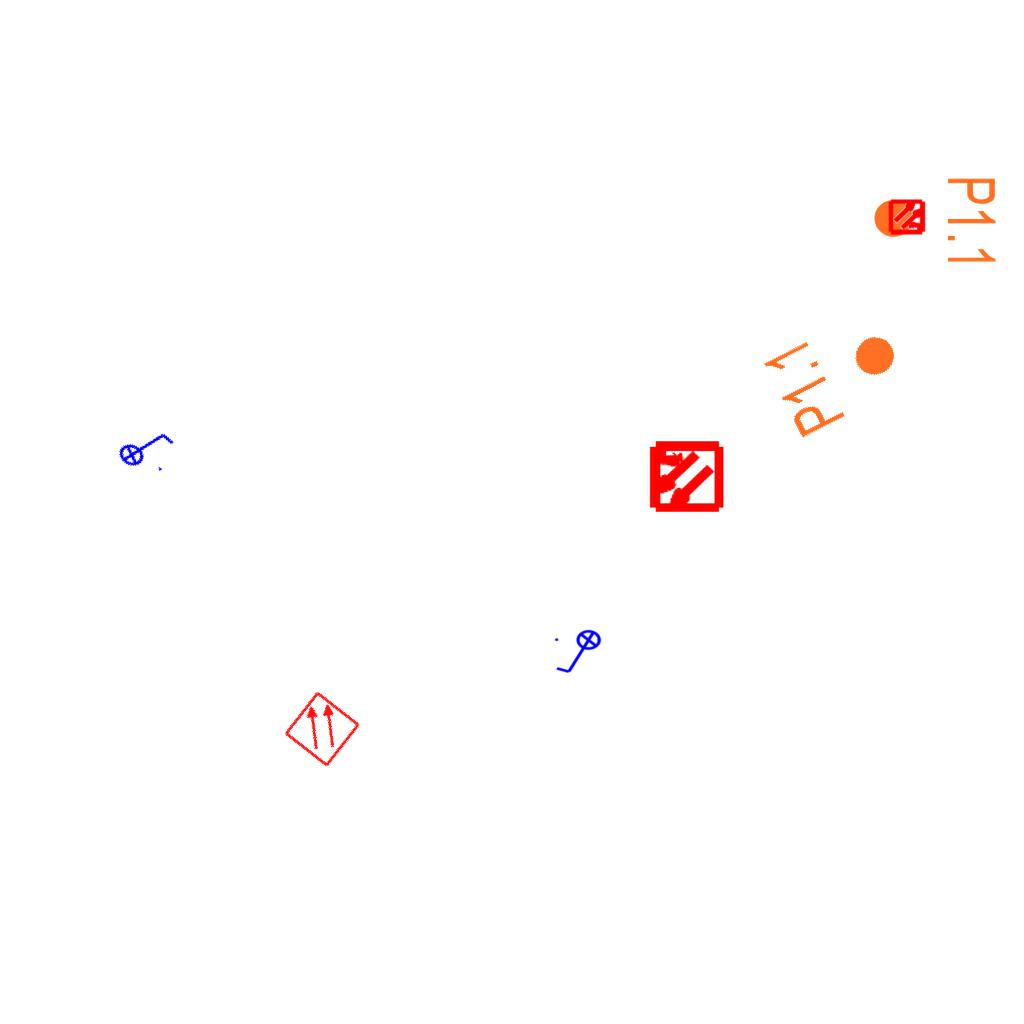Ausschalter_beleuchtet: (109, 413, 181, 481), (552, 629, 608, 677)
Downlight_LED_Einbauleuchten_Flur: (758, 301, 915, 443), (871, 175, 999, 268)
OT_Multisensormelder_(Kombination_RMO_WMD): (628, 420, 741, 533), (880, 189, 936, 245)
RMO_Rauchmelder_optischer: (282, 689, 362, 769)
